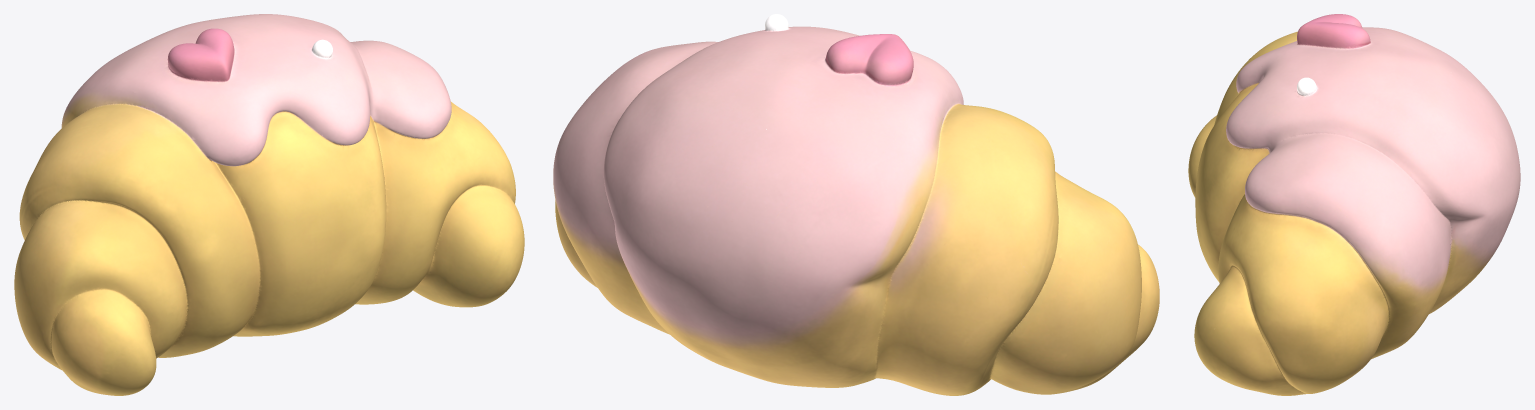
File: Meshy_AI_Pastel_Cloud_Puff_0601174605_texture.fbx
The picture shows the model from 3 angles, left to right: view 1: azimuth 30°, elevation 25°; view 2: azimuth 150°, elevation 25°; view 3: azimuth 270°, elevation 25°; orthographic projection. The views are drawn at different scales.
Parts seen in each view (by area): view 1: Mesh_0; view 2: Mesh_0; view 3: Mesh_0.
Boxes of the visible parts, x1,y1,x2,y2 form: Mesh_0: (14, 14, 524, 395); Mesh_0: (553, 14, 1159, 395); Mesh_0: (1188, 14, 1520, 395).
Bounding box in the file's own units: 190 × 110 × 120.
Materials: 1 (1 with a texture image).
